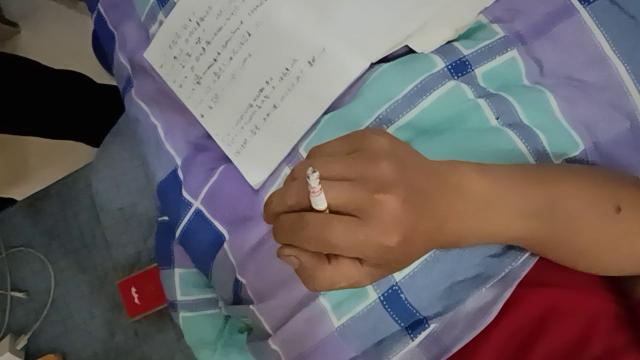Cigarette: (306, 166, 334, 226)
